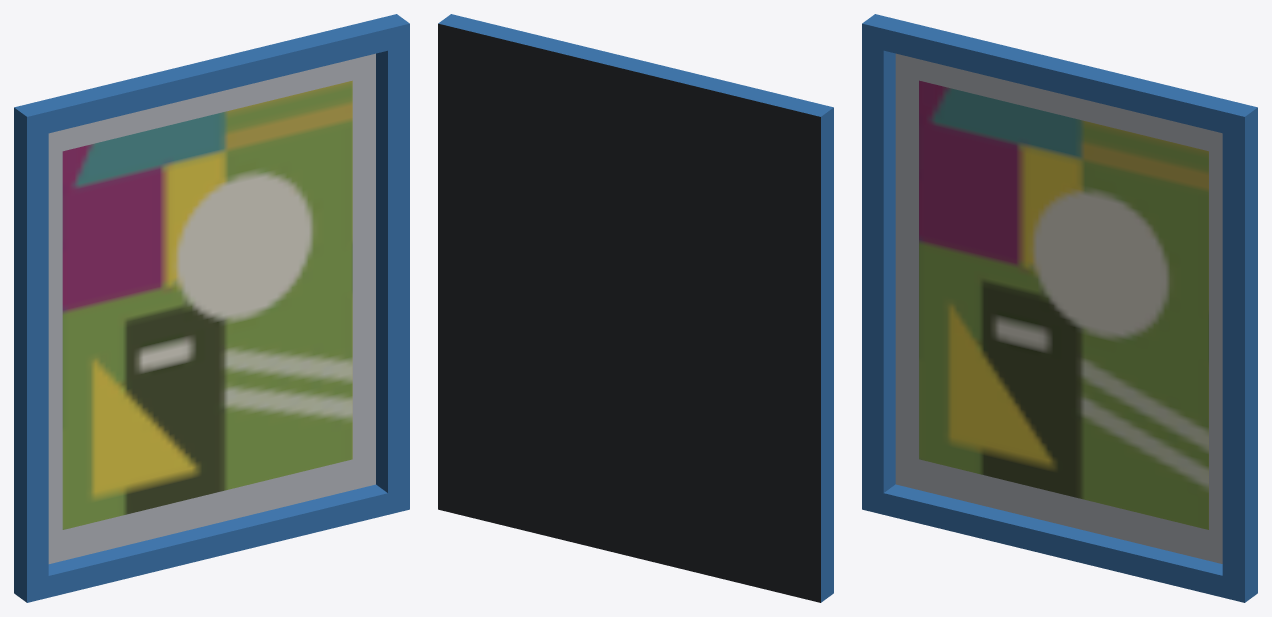
File: SM_Prop_Art_Frame_01.obj
3 renders of one model, left to right at view 1: azimuth 30°, elevation 25°; view 2: azimuth 150°, elevation 25°; view 3: azimuth 330°, elevation 25°, orthographic.
Visible parts, largest first — view 1: SM_Prop_Art_Frame_01_0; view 2: SM_Prop_Art_Frame_01_0; view 3: SM_Prop_Art_Frame_01_0.
Part boxes in pixels (x1,y1,x2,y2): SM_Prop_Art_Frame_01_0: (14, 14, 409, 602); SM_Prop_Art_Frame_01_0: (438, 14, 833, 602); SM_Prop_Art_Frame_01_0: (862, 14, 1257, 602).
Bounding box in the file's own units: 0.9138 × 1.11 × 0.0541.
1 material, 1 textured.
